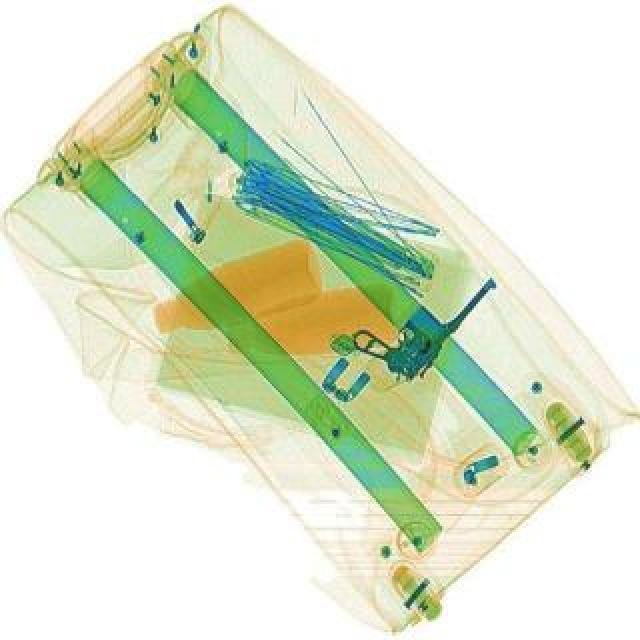gun: (344, 238, 500, 390)
